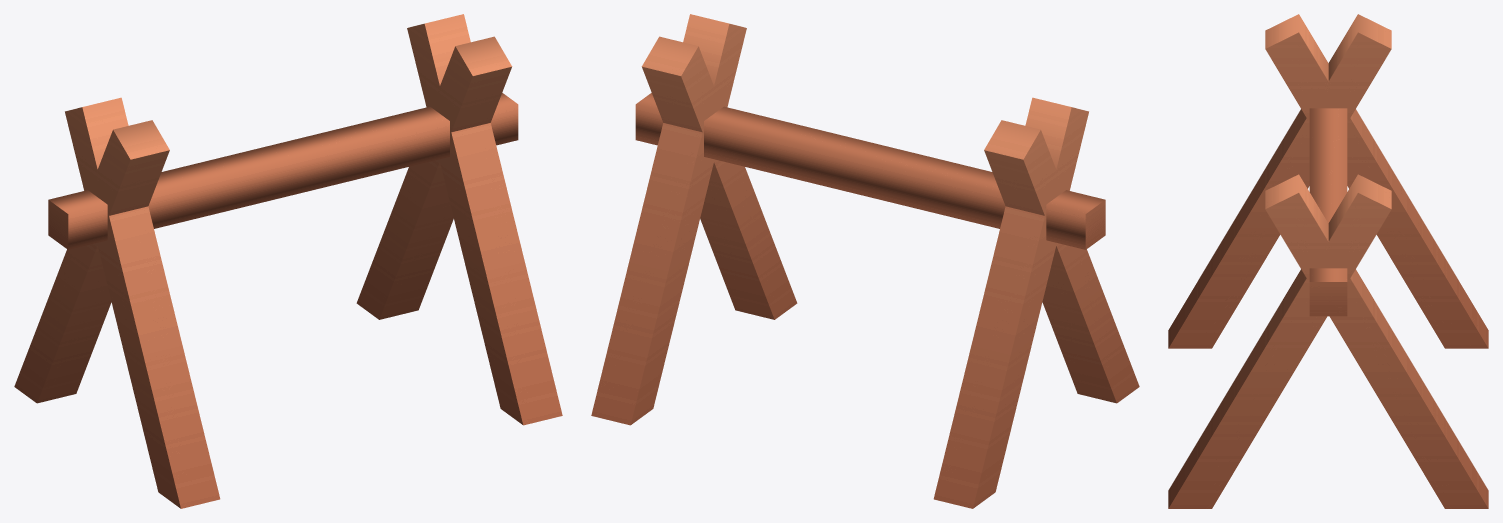
The model's file is campfire-fishing-stand.glb.
3 renders of one model, left to right at view 1: azimuth 30°, elevation 25°; view 2: azimuth 150°, elevation 25°; view 3: azimuth 270°, elevation 25°, orthographic. The views are drawn at different scales.
Visible parts, largest first — view 1: campfire-fishing-stand; view 2: campfire-fishing-stand; view 3: campfire-fishing-stand.
Part boxes in pixels (left/top/right/bottom): campfire-fishing-stand: left=14, top=14, right=562, bottom=508; campfire-fishing-stand: left=591, top=14, right=1139, bottom=508; campfire-fishing-stand: left=1168, top=14, right=1488, bottom=508.
Size of the model in its own units: 0.3945 by 0.276 by 0.2533.
Materials: 1 (1 with a texture image).
